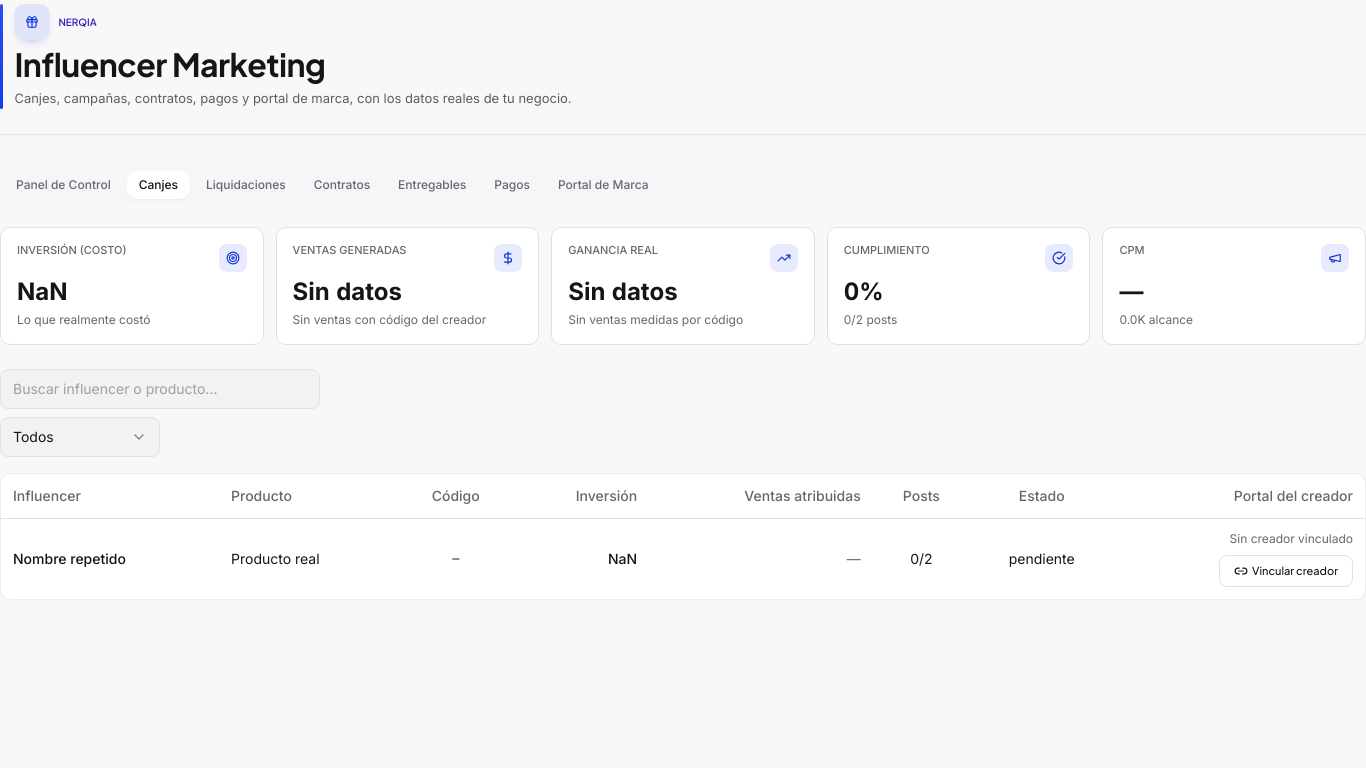
Test: brand explicitly assigns a creator to an exchange › opens a selection without inferring identity from the repeated name
Click the button "Vincular creador" at (1286, 571), box [1219,555,1353,587]
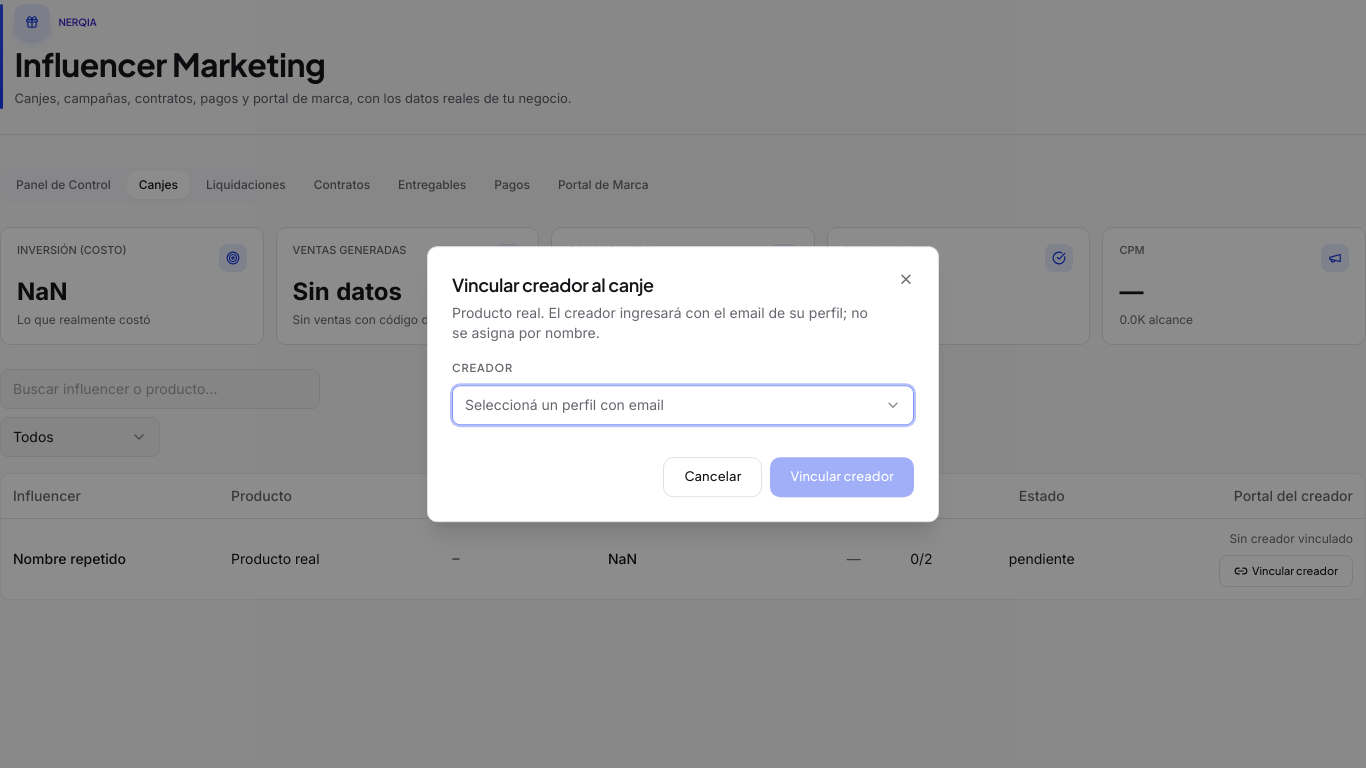
Result: the dialog is shown at [427,246,939,522]
Result: the text "no se asigna por nombre" is shown at [452,304,868,341]
Click the dropdown labelled "Seleccioná un perfil con email" at (564, 404), box [452,385,914,425]
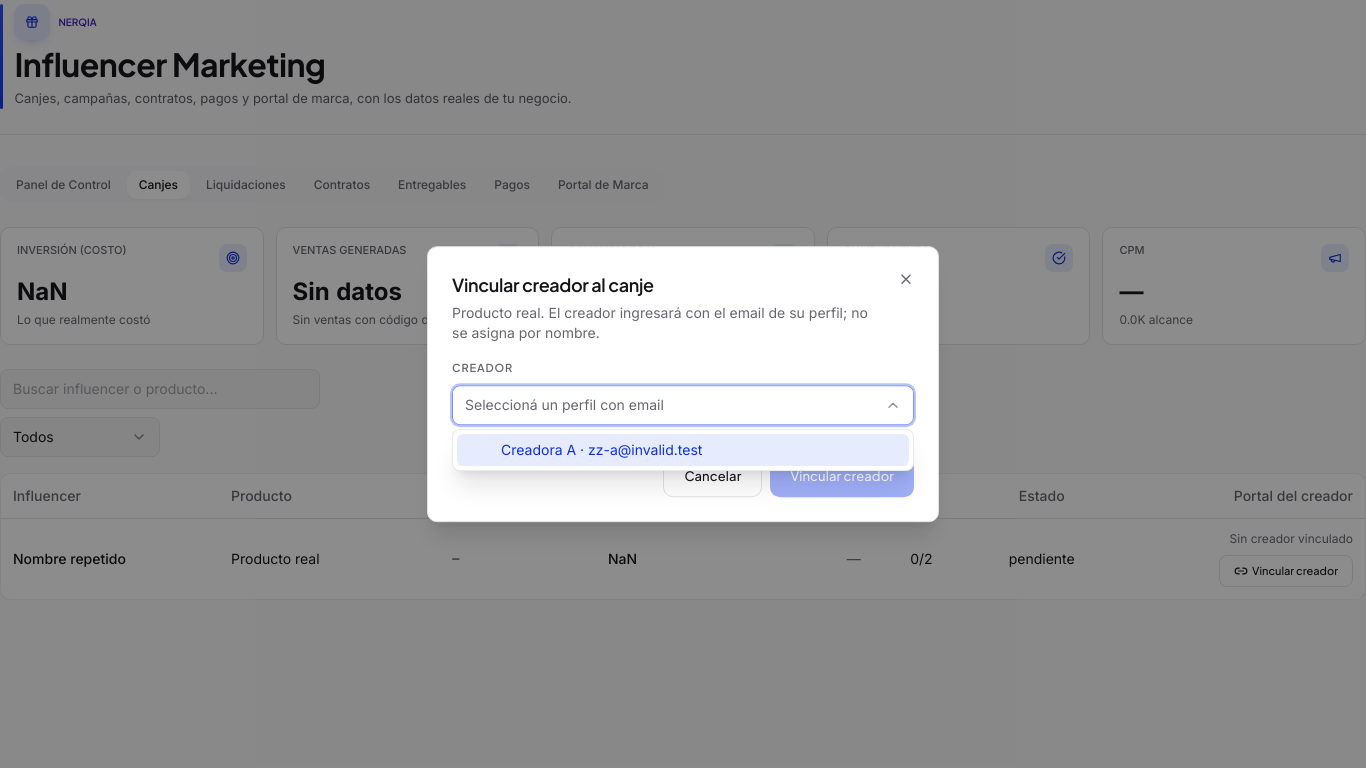
Press the mouse on the option "Creadora A · zz-a@invalid.test" at (683, 450), box [457,434,909,466]
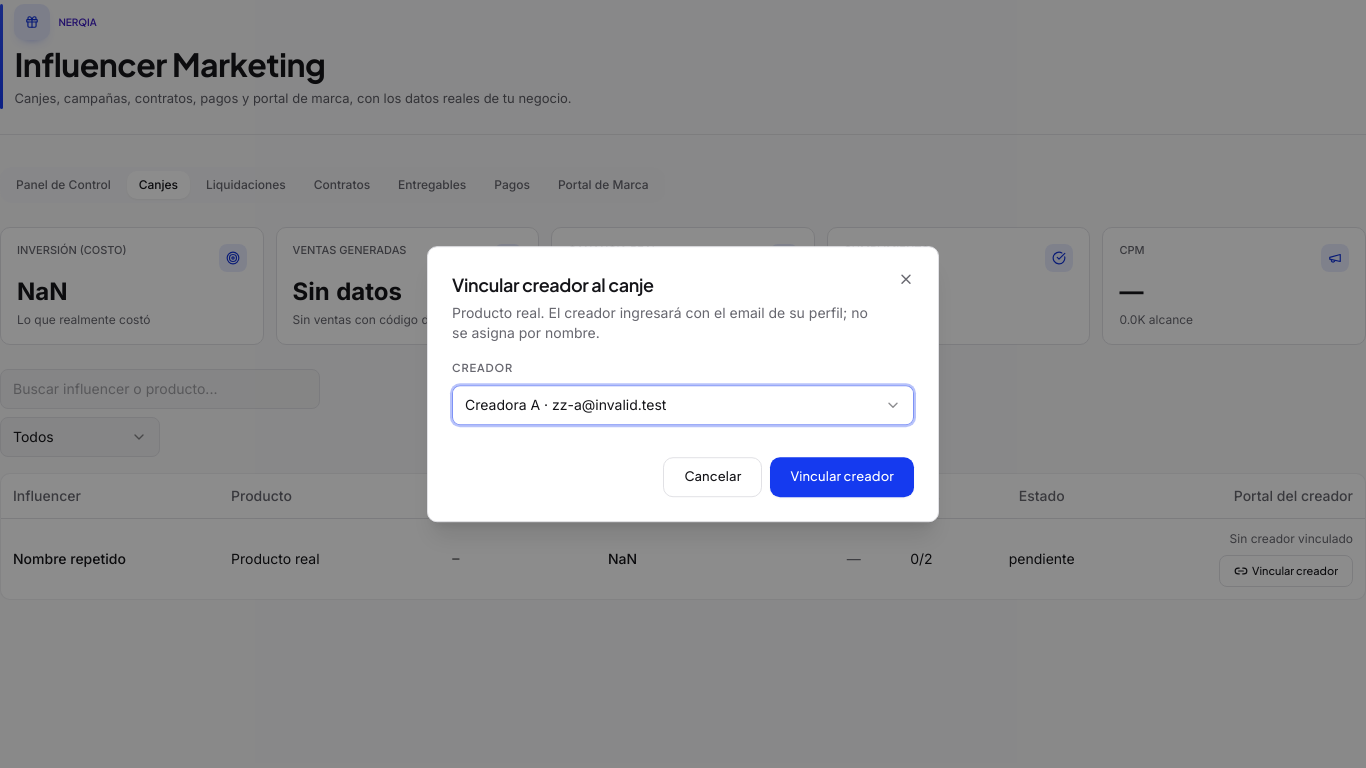
Click the button "Vincular creador" at (842, 477), box [770,457,914,497]
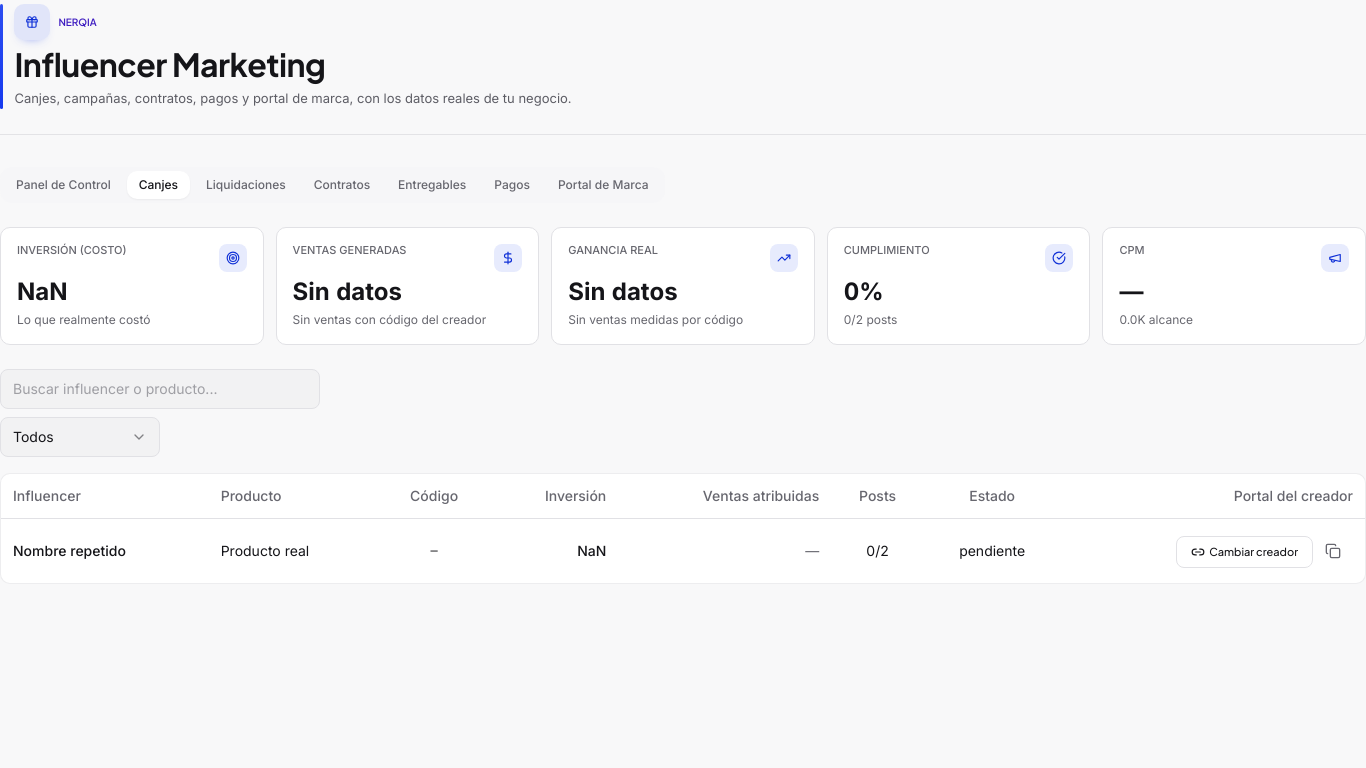
Result: the button named "Copiar portal de Nombre repetido" is shown at [1313,531,1353,571]
